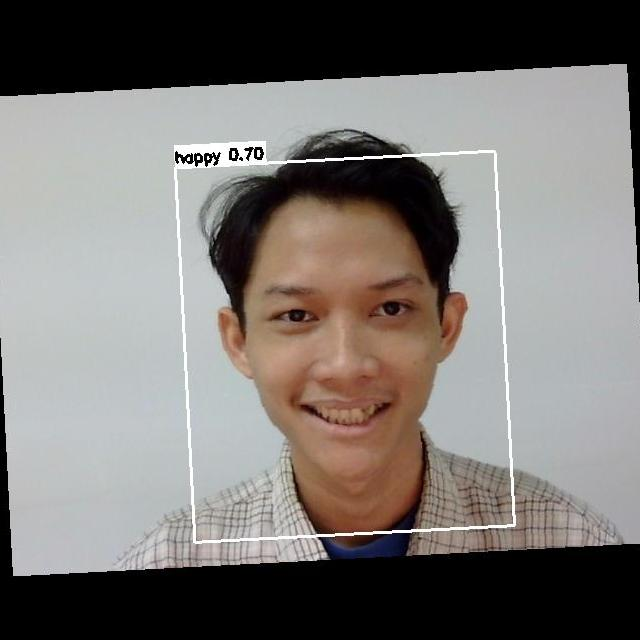Happy: (232, 240, 458, 443)
